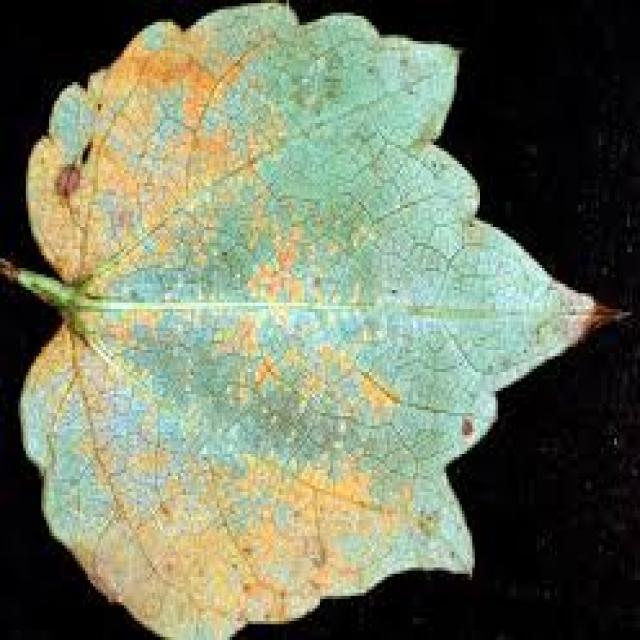leaf_rust: (3, 3, 609, 637)
